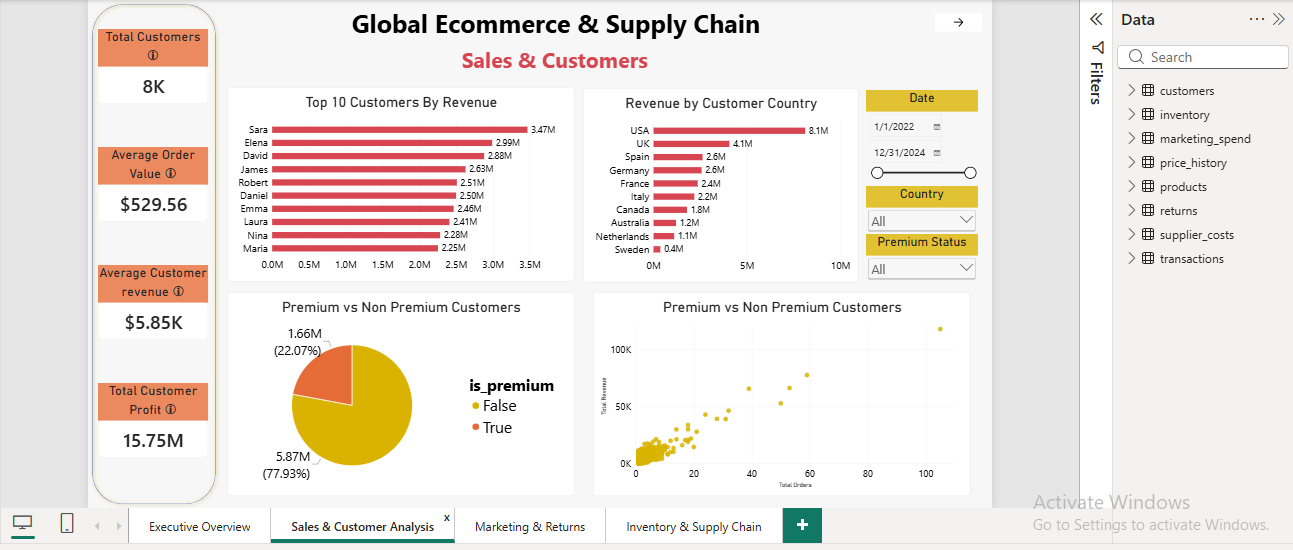

This screenshot's page, from the dashboard's own definition file:
{"tool":"powerbi","page":{"name":"Sales & Customer Analysis","canvas":[1920,1080],"ordinal":1},"visuals":[{"type":"shape","box":[545.8,0,896.9,96.3],"z":0},{"type":"slicer","title":"Date","fields":{"Values":["transactions.date"]},"box":[1653.7,191.1,237.6,203.3],"z":1000},{"type":"shape","title":"Sales & Customer Analysis","box":[732.3,96.6,521.9,53.7],"z":2000},{"type":"shape","box":[0,0,280.4,1080.9],"z":3000},{"type":"cardVisual","title":"Total Customers 🛈","fields":{"Data":["transactions.Total Customers"]},"box":[21.5,62.3,234.1,158],"z":4000},{"type":"cardVisual","title":"Average Order Value 🛈","fields":{"Data":["transactions.Average Order Value"]},"box":[21.5,312.5,234.1,158.9],"z":5000},{"type":"cardVisual","title":"Average Customer revenue 🛈","fields":{"Data":["transactions.Average Customer Revenue"]},"box":[21.5,563.7,234.1,158],"z":6000},{"type":"cardVisual","title":"Total Customer Profit 🛈","fields":{"Data":["transactions.Total Profit"]},"box":[21.5,814,234.1,158],"z":7000},{"type":"clusteredBarChart","title":"Top 10 Customers By Revenue","fields":{"Y":["transactions.Total Revenue"],"Category":["customers.first_name","customers.last_name"]},"box":[296.4,184.7,738.8,414.5],"z":8000},{"type":"clusteredBarChart","title":"Revenue by Customer Country","fields":{"Y":["transactions.Total Revenue"],"Category":["customers.country"]},"box":[1052.3,186.8,586.3,414.5],"z":9000},{"type":"pieChart","title":"Premium vs Non Premium Customers","fields":{"Category":["customers.is_premium"],"Y":["transactions.Total Revenue"]},"box":[296.4,620.7,738.8,433.8],"z":10000},{"type":"scatterChart","title":"Premium vs Non Premium Customers","fields":{"X":["transactions.Total Orders"],"Y":["transactions.Total Revenue"],"Category":["transactions.customer_id"]},"box":[1073.8,620.7,803.2,433.8],"z":11000},{"type":"actionButton","box":[1800.1,27.8,100,40],"z":12000},{"type":"slicer","title":"Country","fields":{"Values":["transactions.country"]},"box":[1653.7,394.5,237.6,104.9],"z":13000},{"type":"slicer","title":"Premium Status","fields":{"Values":["customers.is_premium"]},"box":[1653.7,497.2,237.6,104.9],"z":14000}]}

Visuals, with their boxes on the page's 1920x1080 design canvas (x1, y1, x2, y2). These are canvas units, not pixel positions in the 1293x550 screenshot, which may show the page scaled, cropped or inside an application window:
shape: 546, 0, 1443, 96
"Date" slicer: 1654, 191, 1891, 394
"Sales & Customer Analysis" shape: 732, 97, 1254, 150
shape: 0, 0, 280, 1081
"Total Customers 🛈" cardVisual: 22, 62, 256, 220
"Average Order Value 🛈" cardVisual: 22, 312, 256, 471
"Average Customer revenue 🛈" cardVisual: 22, 564, 256, 722
"Total Customer Profit 🛈" cardVisual: 22, 814, 256, 972
"Top 10 Customers By Revenue" clusteredBarChart: 296, 185, 1035, 599
"Revenue by Customer Country" clusteredBarChart: 1052, 187, 1639, 601
"Premium vs Non Premium Customers" pieChart: 296, 621, 1035, 1054
"Premium vs Non Premium Customers" scatterChart: 1074, 621, 1877, 1054
actionButton: 1800, 28, 1900, 68
"Country" slicer: 1654, 394, 1891, 499
"Premium Status" slicer: 1654, 497, 1891, 602
